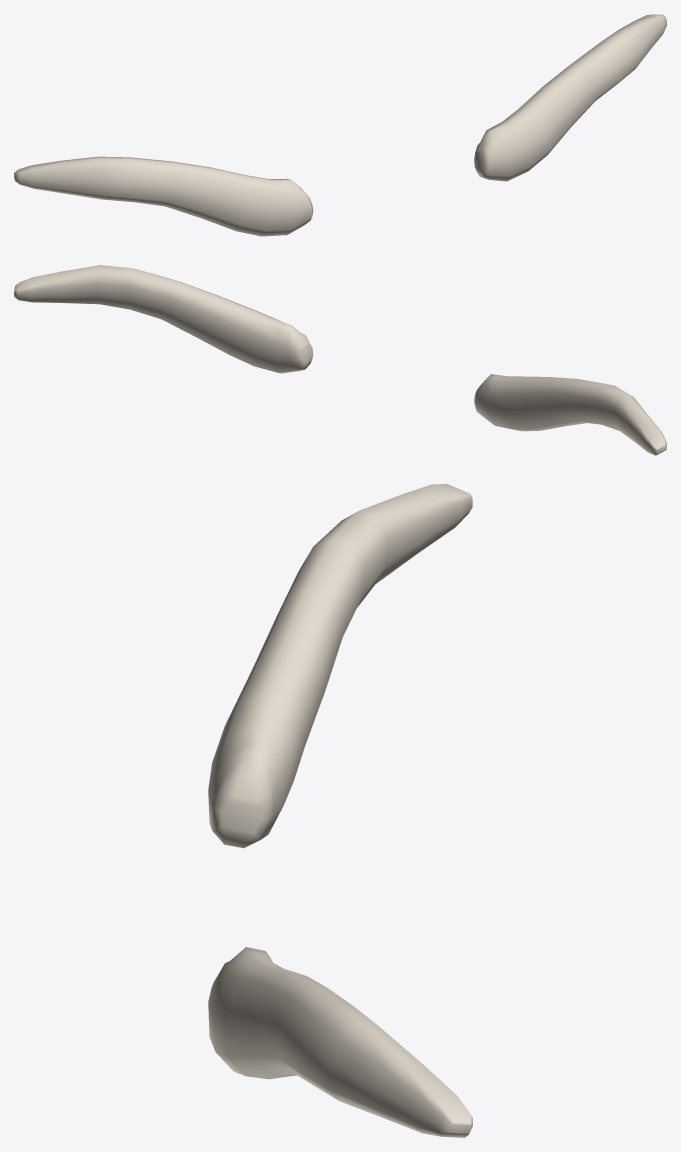
Rendered from Eyebrows_17_07.fbx.
The picture shows the model from 3 angles, top to bottom: view 1: azimuth 30°, elevation 25°; view 2: azimuth 150°, elevation 25°; view 3: azimuth 270°, elevation 25°; orthographic projection. The views are drawn at different scales.
Visible parts, largest first — view 1: Eyebrows_17_07; view 2: Eyebrows_17_07; view 3: Eyebrows_17_07.
Part boxes in pixels (x1,y1,x2,y2): Eyebrows_17_07: (14, 14, 666, 236); Eyebrows_17_07: (14, 265, 666, 455); Eyebrows_17_07: (208, 484, 472, 1137).
Bounding box in the file's own units: 18.79 × 2.52 × 3.3.
